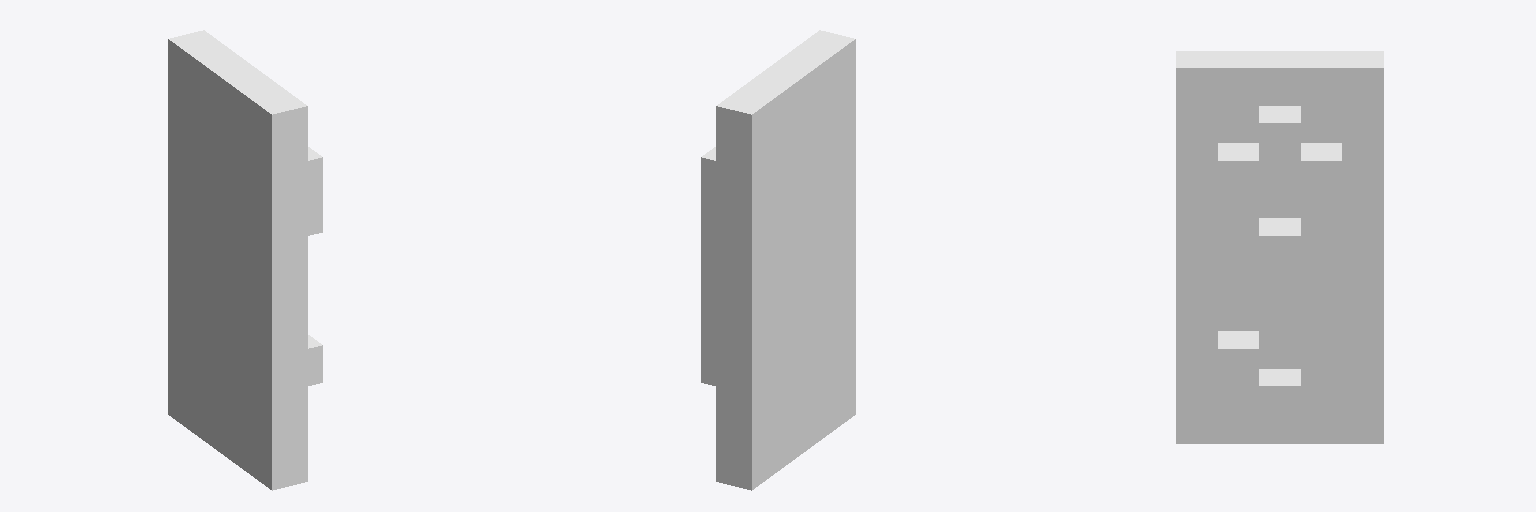
Rendered from number_plate_9.obj.
The picture shows the model from 3 angles: view 1: azimuth 30°, elevation 25°; view 2: azimuth 150°, elevation 25°; view 3: azimuth 270°, elevation 25°; orthographic projection.
Visible parts, largest first — view 1: number_plate_9; view 2: number_plate_9; view 3: number_plate_9.
Part boxes in pixels (x1,y1,x2,y2): number_plate_9: (168,30,322,490); number_plate_9: (701,30,855,490); number_plate_9: (1176,51,1383,443).
Bounding box in the file's own units: 2 × 10 × 5.